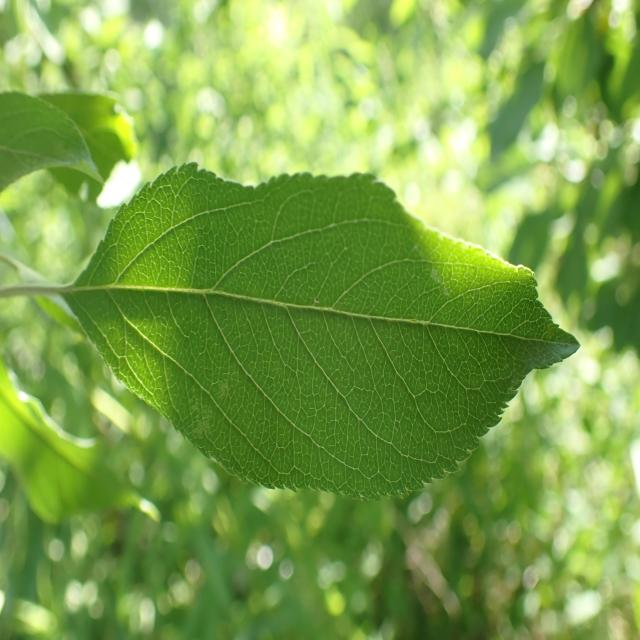healthy: (71, 162, 582, 502)
